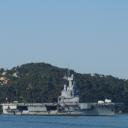Portanaves: (1, 66, 126, 117)
